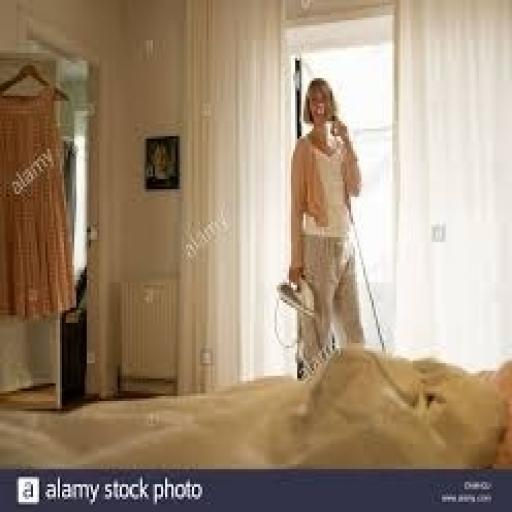calling: (285, 76, 367, 378)
